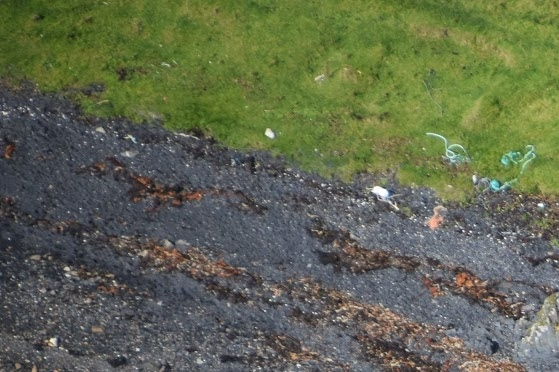net: (483, 143, 539, 195), (417, 195, 459, 238), (422, 129, 472, 165)
white_in_green: (352, 165, 406, 212), (249, 113, 291, 152)
